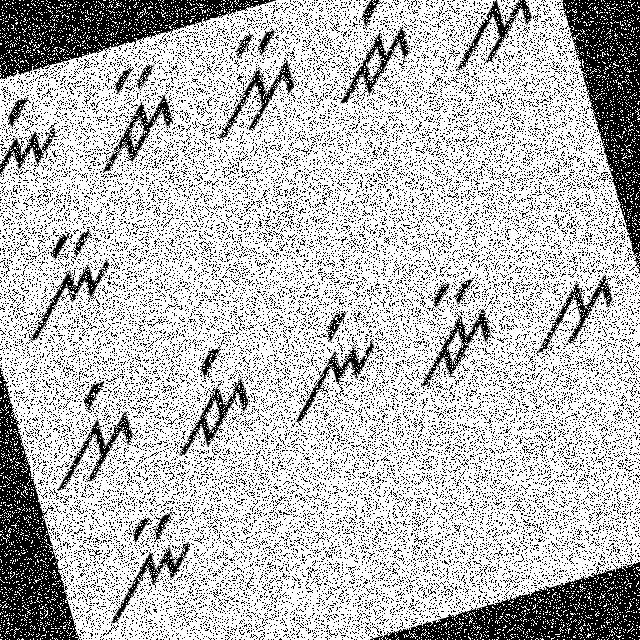jan: (390, 261, 512, 392), (73, 50, 192, 176)
jang: (148, 336, 262, 462), (300, 0, 423, 109)
nyan: (0, 216, 139, 346), (84, 496, 212, 626)
nyang: (260, 298, 395, 430), (0, 86, 77, 216)
sa: (514, 259, 630, 365), (428, 0, 551, 80)
san: (183, 15, 310, 148)
sang: (26, 366, 148, 500)
